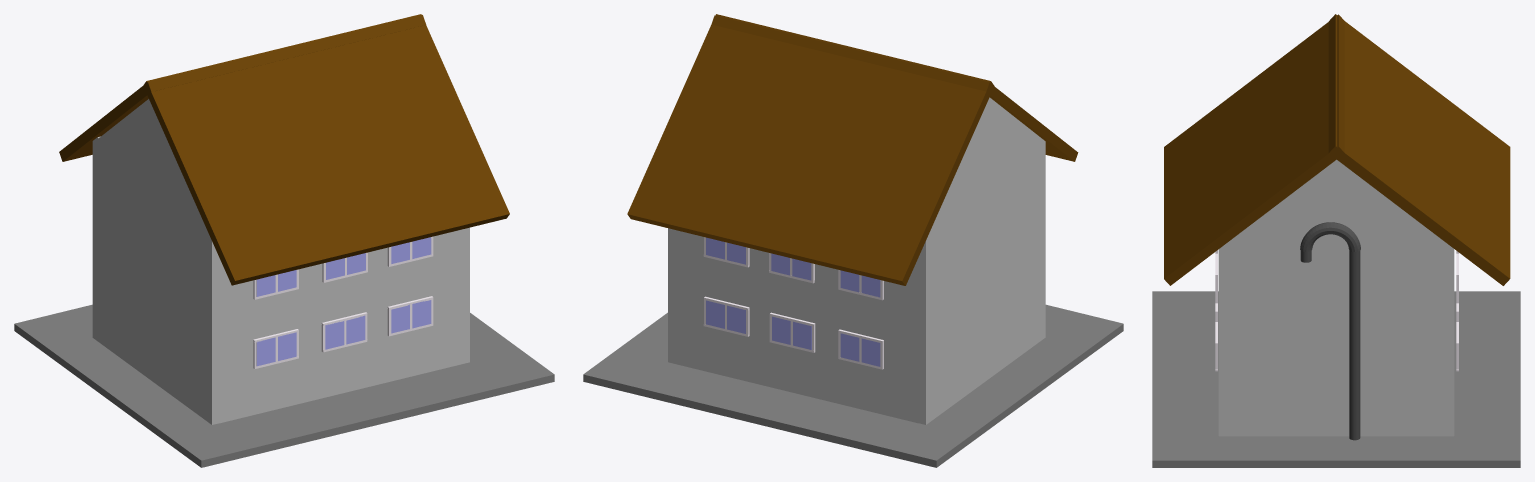
Rendered from rojinhome.fbx.
3 renders of one model, left to right at view 1: azimuth 30°, elevation 25°; view 2: azimuth 150°, elevation 25°; view 3: azimuth 270°, elevation 25°, orthographic.
Visible parts, largest first — view 1: Cube.004, Cube.012, Cube.006, Cube.001, Cube.003, Cube.008, Cube.013, Cube.010, Cube.002, Cube.016, Cube.011, Cube.015; view 2: Cube.003, Cube, Cube.006, Cube.001, Cube.004, Cube.008, Cube.020, Cube.019, Cube.021, Cube.014, Cube.017, Cube.018; view 3: Cube.009, Cube.001, Cube.003, Cube.004, Cube.005, 円柱, トーラス.001.
Boxes of the visible parts, x1,y1,x2,y2 form: Cube.004: [143, 14, 509, 285]; Cube.012: [219, 228, 469, 423]; Cube.006: [92, 136, 219, 424]; Cube.001: [14, 304, 554, 467]; Cube.003: [59, 15, 426, 161]; Cube.008: [98, 99, 199, 213]; Cube.013: [321, 312, 367, 352]; Cube.010: [387, 296, 433, 336]; Cube.002: [253, 329, 298, 368]; Cube.016: [387, 236, 433, 266]; Cube.011: [253, 269, 298, 299]; Cube.015: [322, 252, 367, 282]; Cube.003: [627, 14, 994, 285]; Cube: [668, 228, 918, 423]; Cube.006: [918, 138, 1045, 424]; Cube.001: [583, 304, 1123, 467]; Cube.004: [711, 15, 1078, 161]; Cube.008: [938, 97, 1040, 213]; Cube.020: [769, 312, 815, 352]; Cube.019: [838, 329, 883, 369]; Cube.021: [703, 296, 749, 336]; Cube.014: [703, 237, 749, 267]; Cube.017: [769, 253, 814, 283]; Cube.018: [838, 270, 883, 300]; Cube.009: [1219, 236, 1453, 436]; Cube.001: [1152, 291, 1520, 467]; Cube.003: [1328, 14, 1510, 285]; Cube.004: [1164, 14, 1344, 285]; Cube.005: [1236, 159, 1436, 235]; 円柱: [1349, 250, 1360, 440]; トーラス.001: [1300, 222, 1360, 251].
Bounding box in the file's own units: 283 × 236 × 259.
